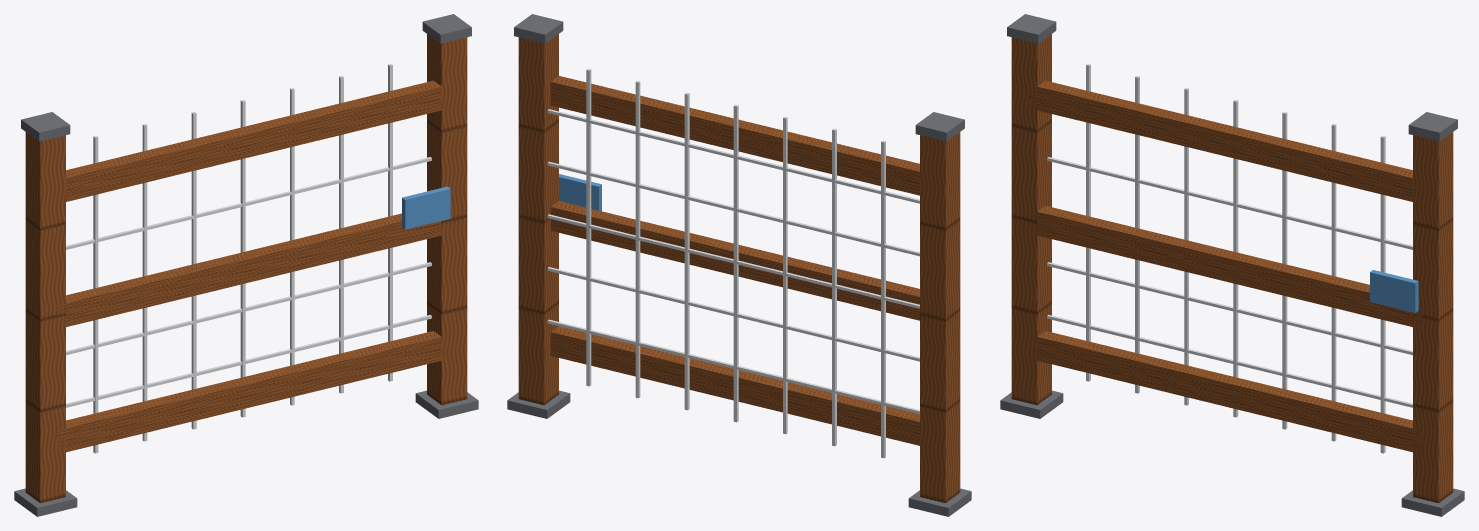
File: boarding-kennels-and-cattery-boarding-kennels-and-catt-a9221b37__35571.glb
The picture shows the model from 3 angles, left to right: view 1: azimuth 30°, elevation 25°; view 2: azimuth 150°, elevation 25°; view 3: azimuth 330°, elevation 25°; orthographic projection.
Parts seen in each view (by area): view 1: boarding-kennels-and-cattery-paddock-fence-panel; view 2: boarding-kennels-and-cattery-paddock-fence-panel; view 3: boarding-kennels-and-cattery-paddock-fence-panel.
Boxes of the visible parts, x1,y1,x2,y2 form: boarding-kennels-and-cattery-paddock-fence-panel: (14,14,478,516); boarding-kennels-and-cattery-paddock-fence-panel: (507,14,971,516); boarding-kennels-and-cattery-paddock-fence-panel: (1000,14,1464,516).
Size of the model in its own units: 1.55 by 1.28 by 0.14.
4 materials, 1 textured.
